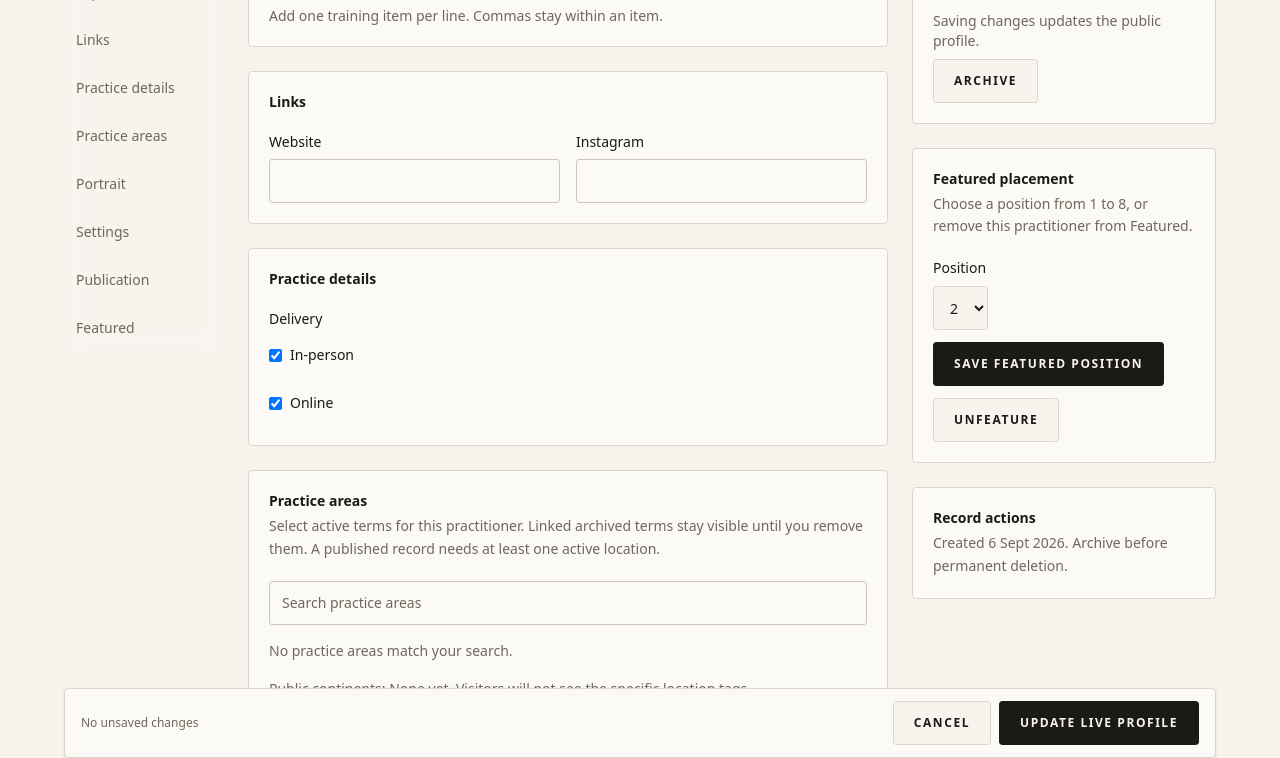
it: practitioner draft workflow › does not mark profile content dirty when choosing a featured position
This screenshot has width=1280, height=758.
(page scrolled)
Select "3" in the dropdown named "Featured position" at [960, 308], box [933,286,988,330]
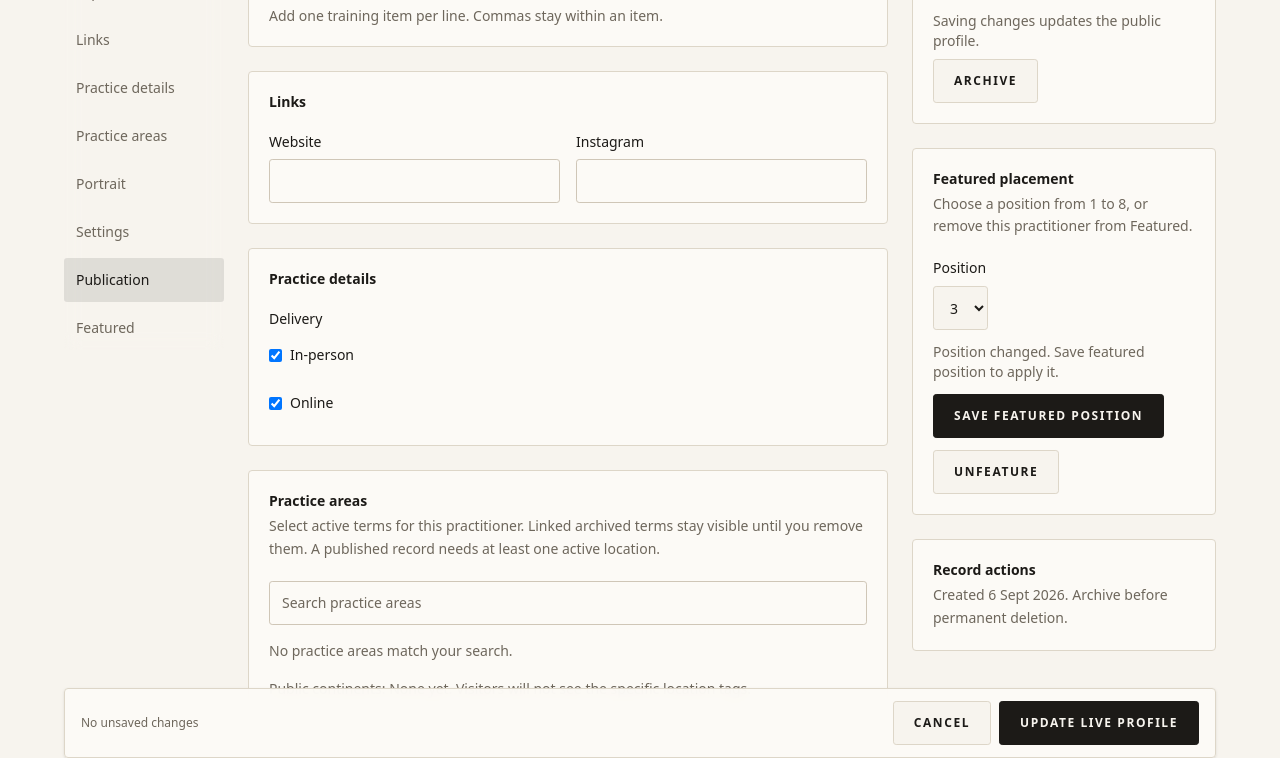
Expected: the text "Position changed. Save featured position to apply it." is shown, [933,342,1144,381]
